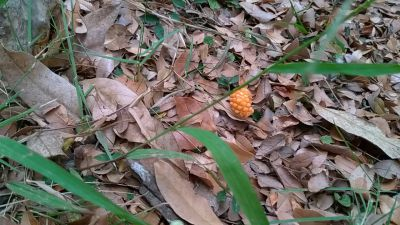eggs: (227, 82, 256, 120)
